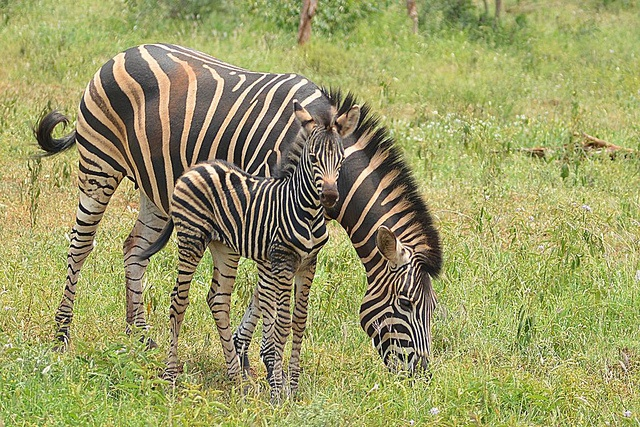zebra: (33, 41, 442, 382), (136, 98, 360, 405)
